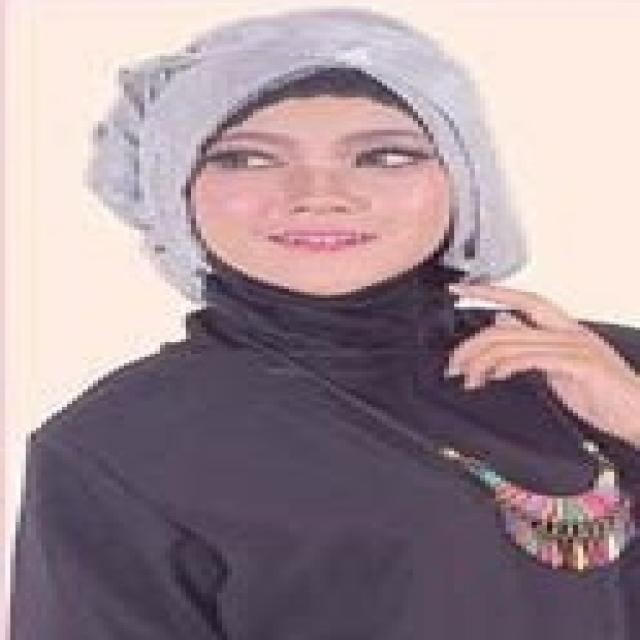head: (105, 17, 517, 308)
